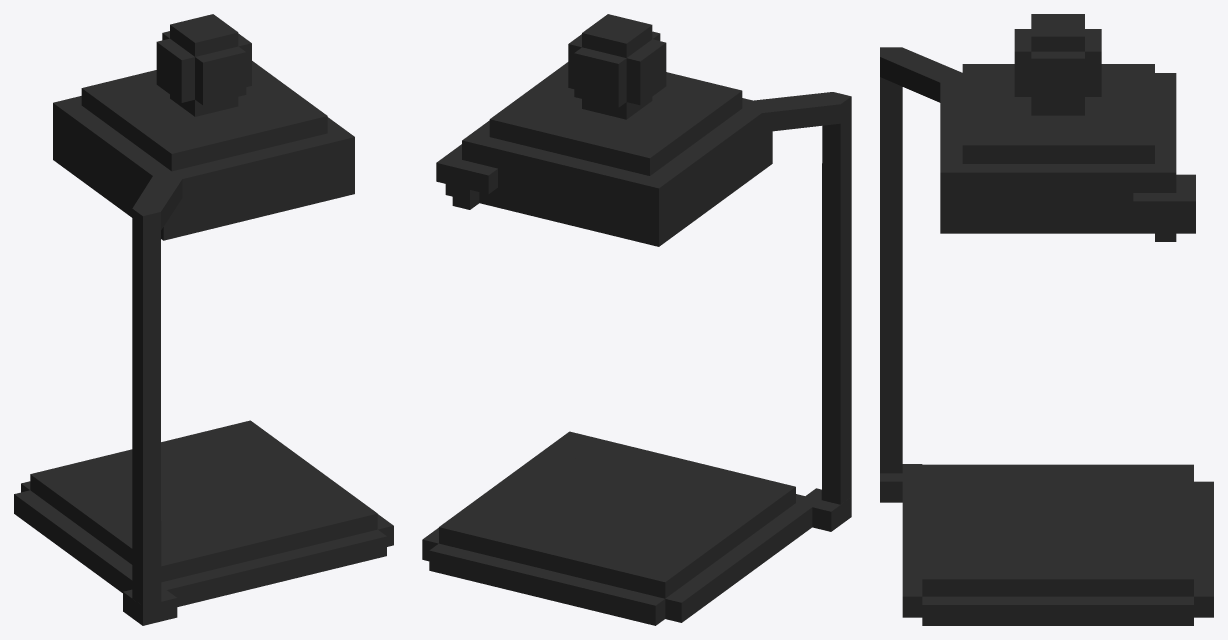
The model's file is French_press.fbx.
3 renders of one model, left to right at view 1: azimuth 30°, elevation 25°; view 2: azimuth 150°, elevation 25°; view 3: azimuth 270°, elevation 25°, orthographic. The views are drawn at different scales.
Parts seen in each view (by area): view 1: Cube; view 2: Cube; view 3: Cube.
Boxes of the visible parts, <box> form: Cube: <box>14,14,393,625</box>; Cube: <box>422,14,851,625</box>; Cube: <box>880,14,1213,625</box>.
Size of the model in its own units: 246 by 435 by 246.
Materials: 1 (1 with a texture image).
